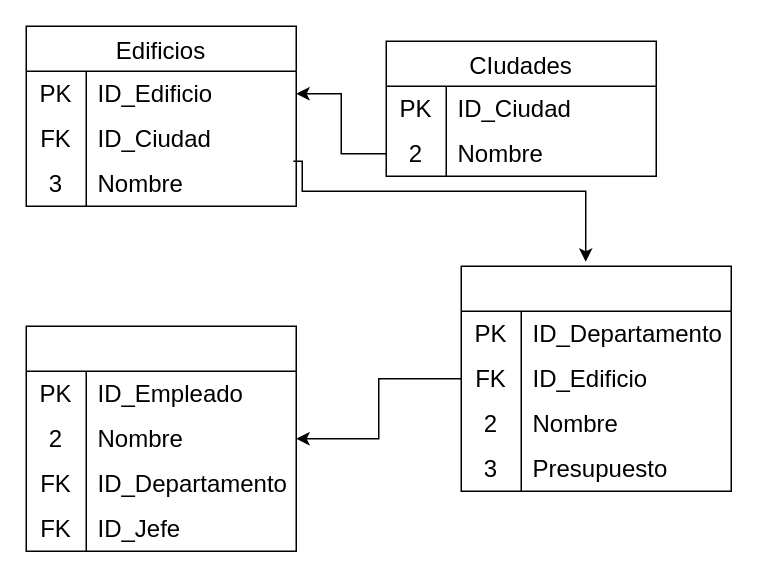
Image size: 758x578. Some labels were removed from this diagram. The shapes that lost their labels are listed below. From the top down, each one's box as (x1, y1, x2, y2) in pixels, then its label:
(460, 265, 731, 491): Departamentos
(25, 325, 296, 551): Empleados
